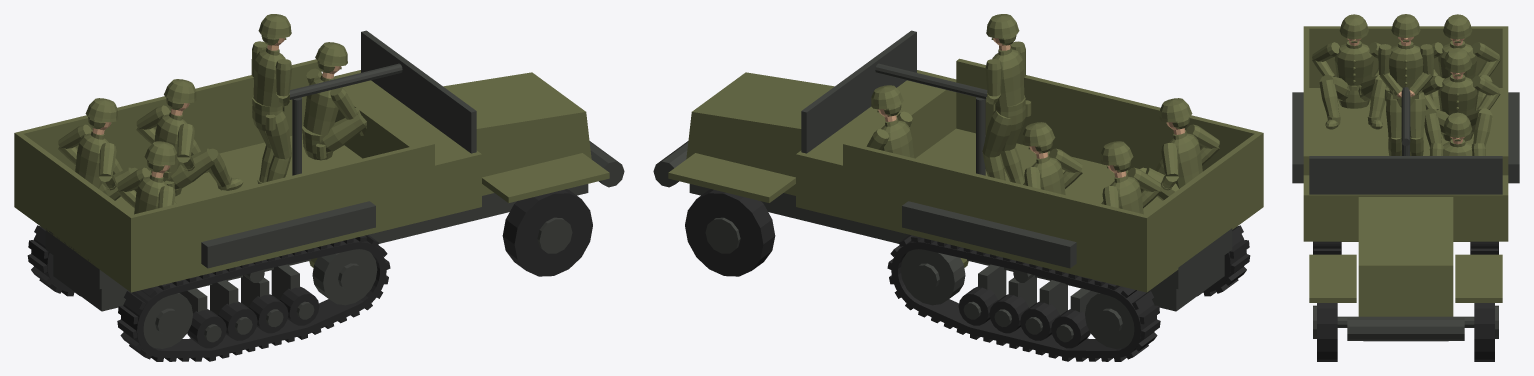
Rendered from us_m3_half-track.obj.
3 renders of one model, left to right at view 1: azimuth 30°, elevation 25°; view 2: azimuth 150°, elevation 25°; view 3: azimuth 270°, elevation 25°, orthographic. The views are drawn at different scales.
Bounding box in the file's own units: 5.54 × 2.85 × 2.4.
